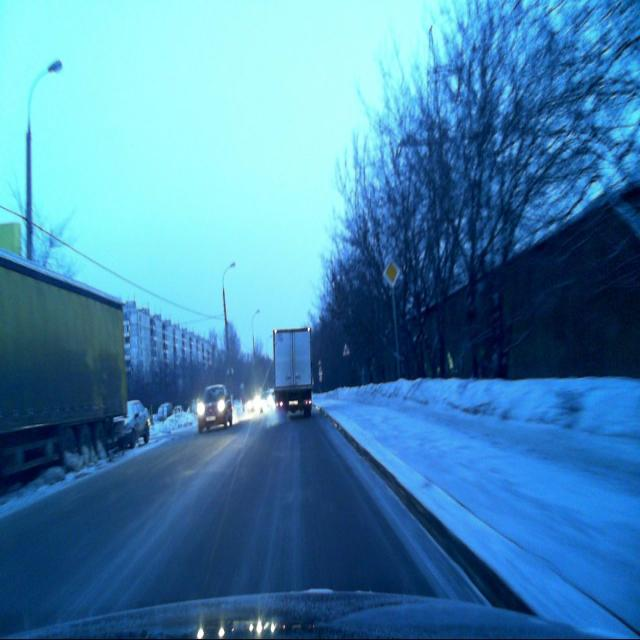object: (391, 292, 401, 380)
road sign: (382, 258, 400, 290), (342, 341, 350, 356)
